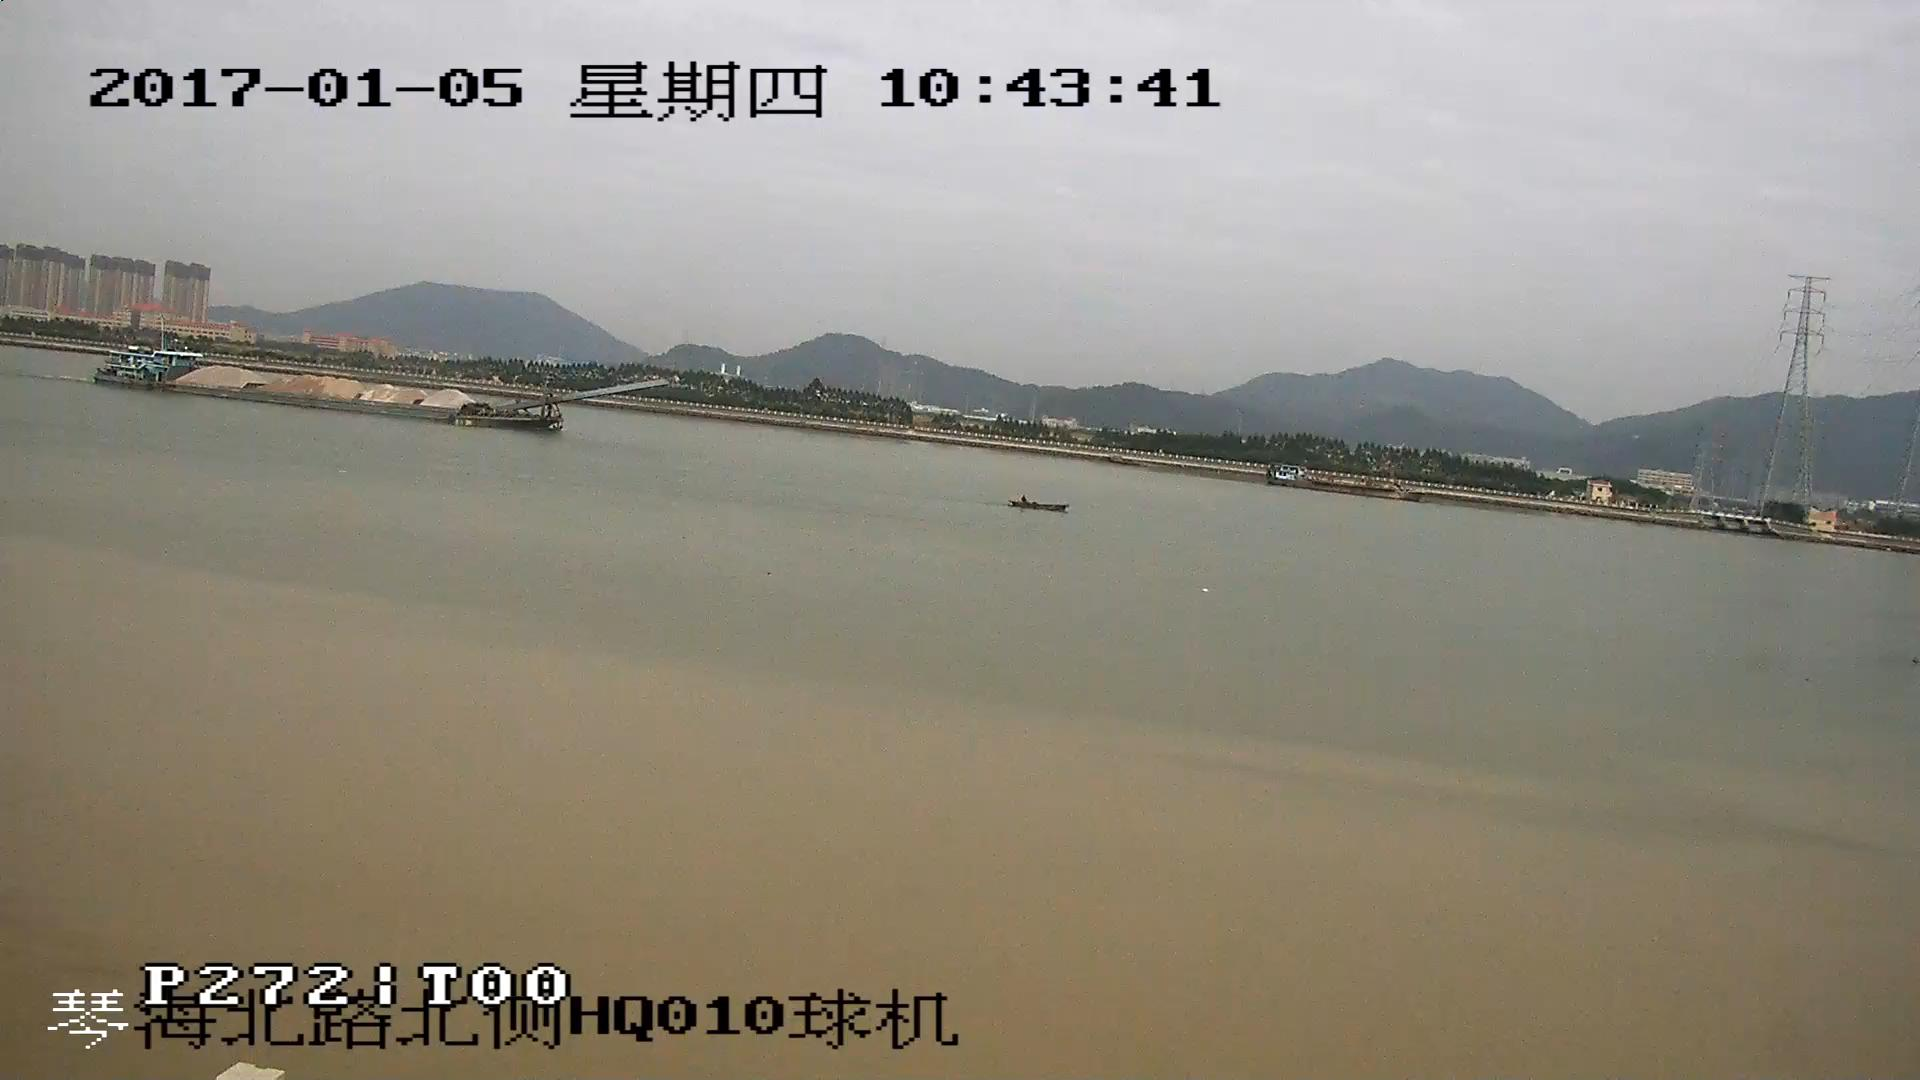fishing boat: (1014, 492, 1070, 514)
ore carrier: (94, 346, 667, 431)
